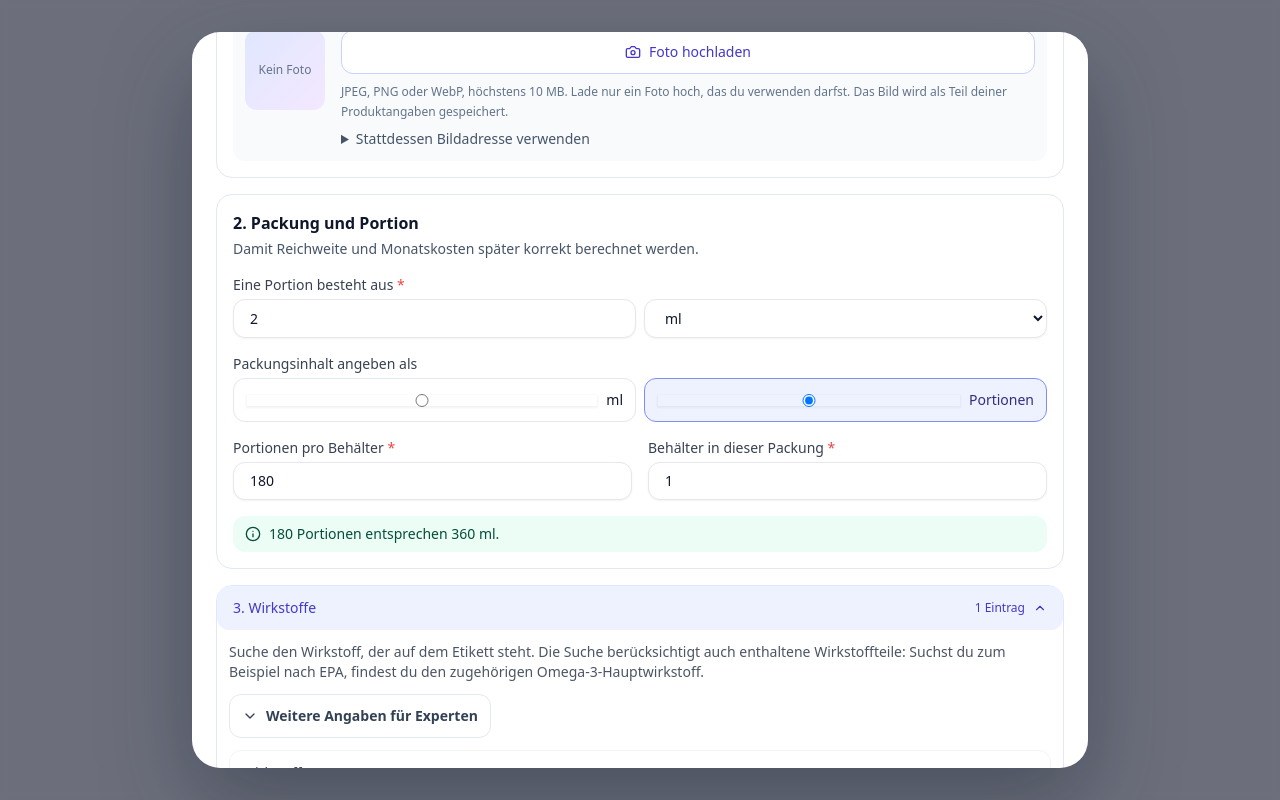
Test: UserProductForm sub-ingredient roundtrip › zeigt die bidirektionale Packungsrechnung auch für ml
(page scrolled)
Click the radio button labelled "ml" at (422,400), box x1=246 y1=394 x2=598 y2=406
(page scrolled)
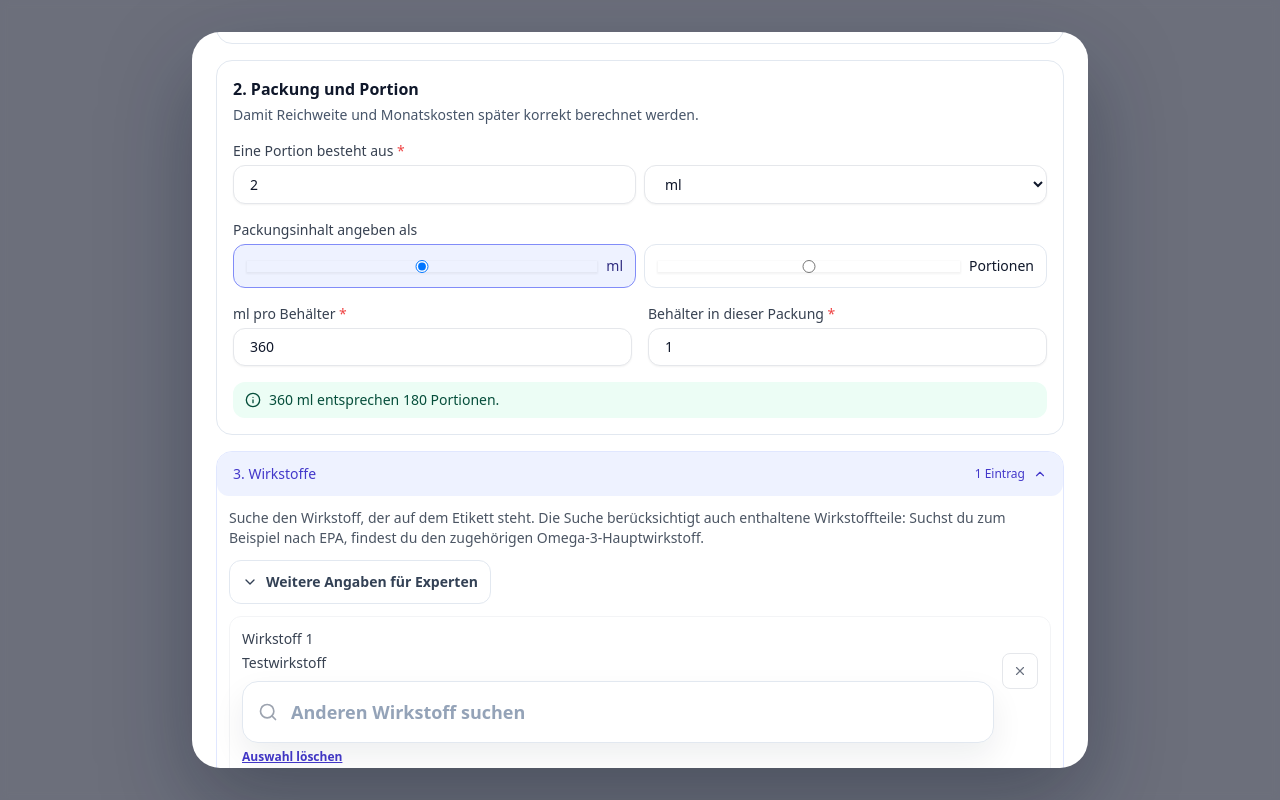
Expected: the number field showing "360" is shown, x1=233 y1=328 x2=632 y2=366
